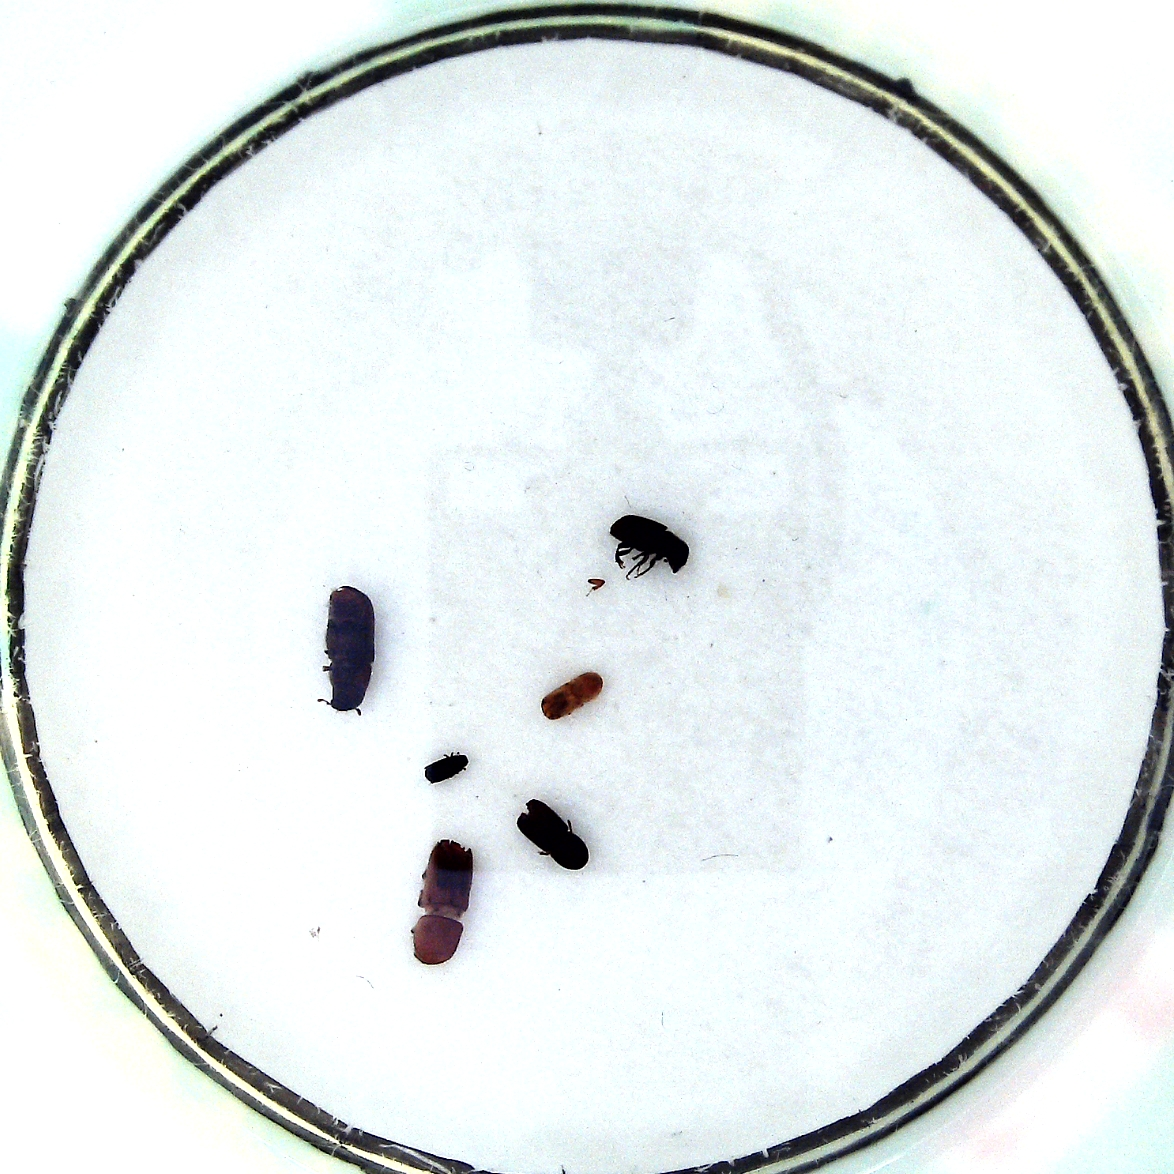Boerner: (407, 835, 476, 967)
Leconte: (325, 581, 380, 714)
Linnaeus: (514, 794, 592, 873)
acuminatus: (535, 665, 604, 722)
armandi: (605, 511, 689, 579)
coleoptera: (423, 750, 469, 786)
